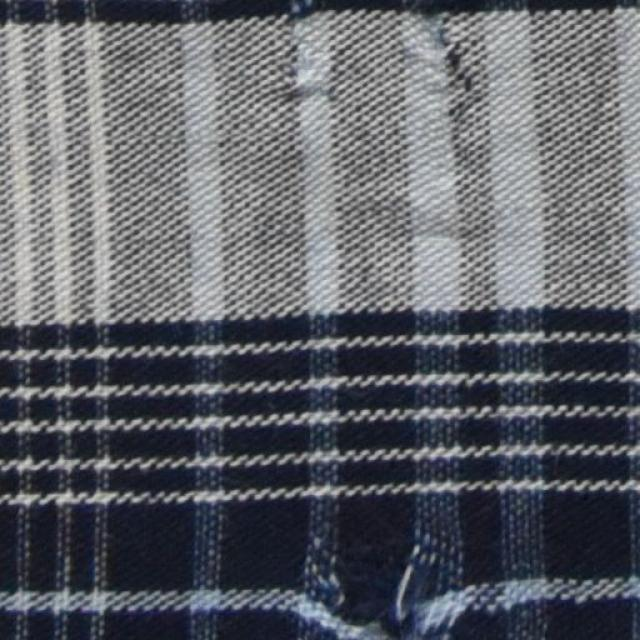Snag: (320, 536, 463, 639), (394, 9, 473, 97)
